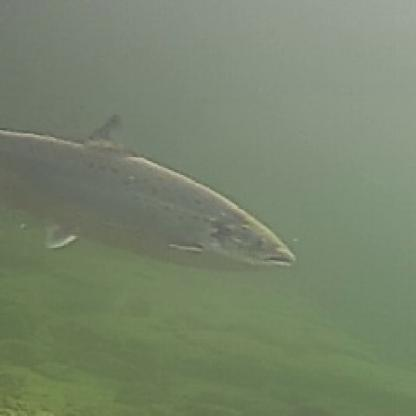salmon: (0, 110, 302, 278)
